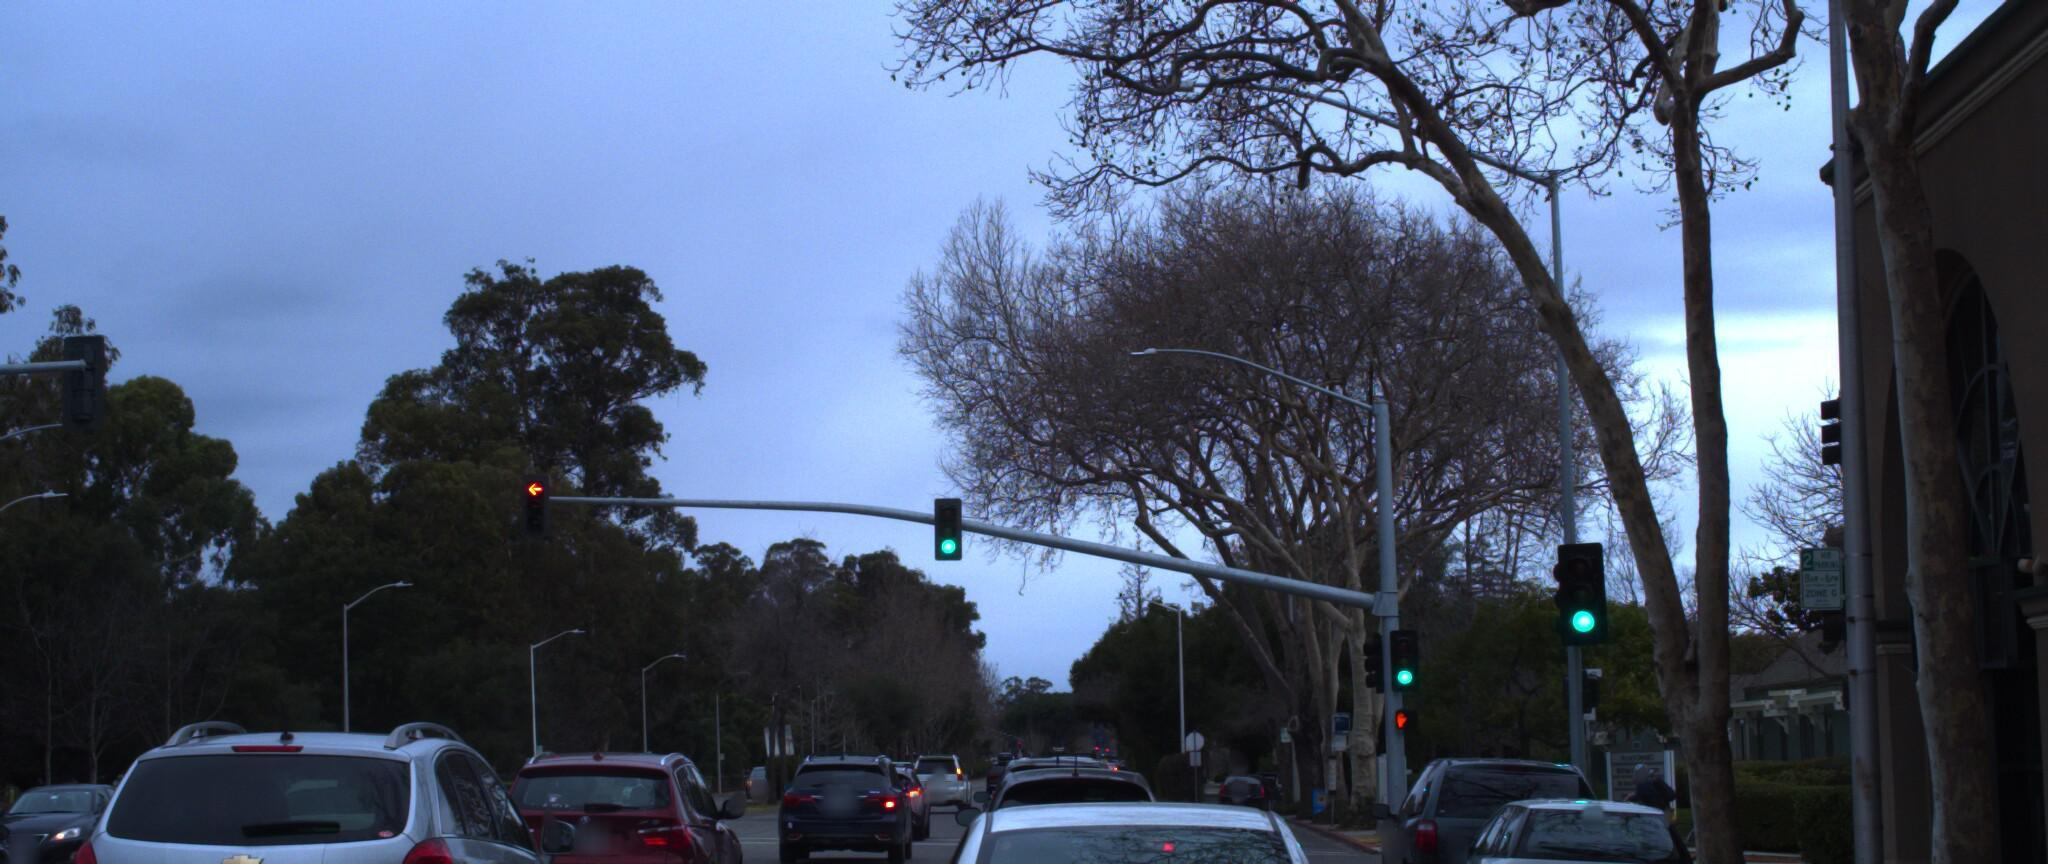bicycle: (1576, 747, 1704, 854)
car: (24, 690, 605, 864), (887, 773, 1411, 864), (472, 730, 761, 864), (1358, 732, 1627, 864), (947, 747, 1196, 864), (1416, 777, 1735, 864), (756, 740, 910, 860), (0, 777, 165, 864), (0, 773, 65, 864)
